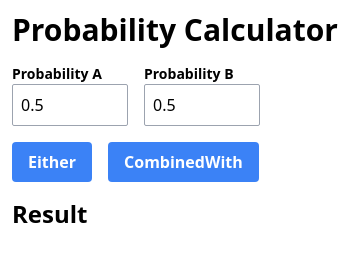
Test: ProbabilityView › invalid values disables buttons
Replace the text in the number field labelled "Probability A" with "10" at (70,105), box [12,84,128,126]
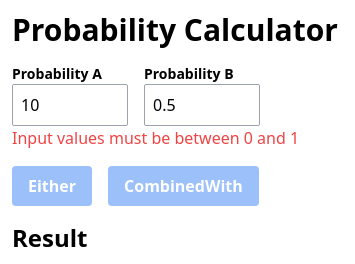
expect the button "Either" is disabled: met, box [12,166,92,206]
expect the button "CombinedWith" is disabled: met, box [108,166,259,206]
